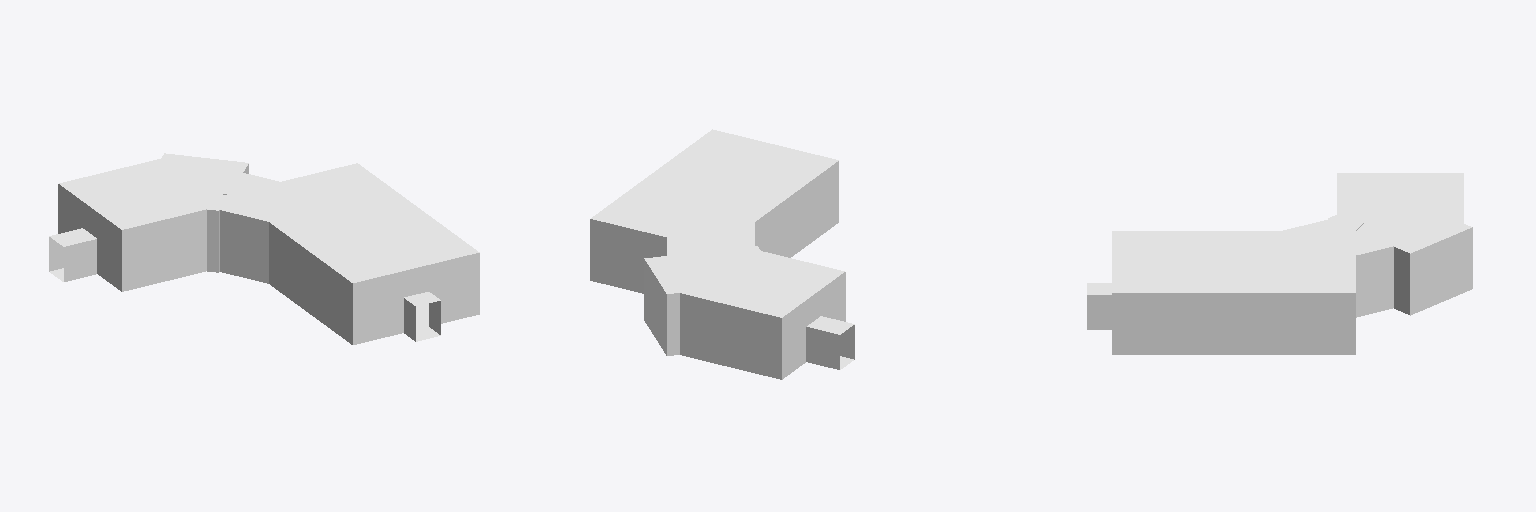
The model's file is room_base4.obj.
The picture shows the model from 3 angles: view 1: azimuth 30°, elevation 25°; view 2: azimuth 150°, elevation 25°; view 3: azimuth 270°, elevation 25°; orthographic projection.
Parts seen in each view (by area): view 1: room_base4; view 2: room_base4; view 3: room_base4.
Part boxes in pixels (left/top/right/bottom): room_base4: left=49, top=153, right=479, bottom=344; room_base4: left=590, top=129, right=854, bottom=379; room_base4: left=1087, top=173, right=1472, bottom=354.
Size of the model in its own units: 33 by 7 by 39.42.